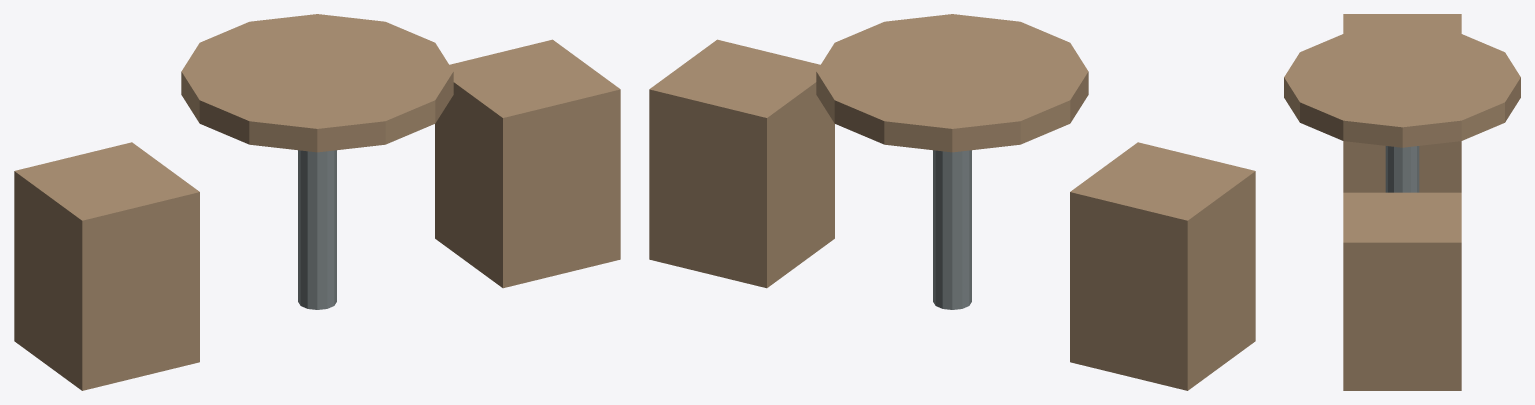
File: PRP_HOUSE_004_patio_table_set.glb
3 renders of one model, left to right at view 1: azimuth 30°, elevation 25°; view 2: azimuth 150°, elevation 25°; view 3: azimuth 270°, elevation 25°, orthographic. The views are drawn at different scales.
Visible parts, largest first — view 1: Part_73, Part_79, Part_74, Part_80, Part_76, Part_82, Part_01, Part_22, Part_04, Part_19, Part_07, Part_16 (+14 smaller); view 2: Part_72, Part_78, Part_74, Part_80, Part_76, Part_82, Part_13, Part_34, Part_16, Part_31, Part_01, Part_10 (+14 smaller); view 3: Part_81, Part_82, Part_75, Part_76, Part_10, Part_25, Part_07, Part_28, Part_04, Part_31, Part_13, Part_22 (+14 smaller).
Boxes of the visible parts, <box> form: Part_73: <box>82,192,199,390</box>; Part_79: <box>503,89,620,288</box>; Part_74: <box>14,171,82,390</box>; Part_80: <box>435,82,502,287</box>; Part_76: <box>15,142,199,220</box>; Part_82: <box>449,39,620,117</box>; Part_01: <box>319,43,452,71</box>; Part_22: <box>182,43,315,71</box>; Part_04: <box>318,71,453,99</box>; Part_19: <box>181,71,316,99</box>; Part_07: <box>318,71,434,120</box>; Part_16: <box>200,71,316,120</box>; Part_72: <box>1070,192,1187,390</box>; Part_78: <box>649,89,766,288</box>; Part_74: <box>1187,171,1255,390</box>; Part_80: <box>767,82,834,287</box>; Part_76: <box>1070,142,1254,220</box>; Part_82: <box>649,39,820,117</box>; Part_13: <box>954,43,1087,71</box>; Part_34: <box>817,43,950,71</box>; Part_16: <box>953,71,1088,99</box>; Part_31: <box>816,71,951,99</box>; Part_01: <box>835,22,951,71</box>; Part_10: <box>953,22,1069,71</box>; Part_81: <box>1343,242,1461,390</box>; Part_82: <box>1343,192,1461,242</box>; Part_75: <box>1343,141,1461,192</box>; Part_76: <box>1343,14,1461,33</box>; Part_10: <box>1284,52,1401,77</box>; Part_25: <box>1403,52,1520,77</box>; Part_07: <box>1284,77,1401,102</box>; Part_28: <box>1403,77,1520,102</box>; Part_04: <box>1300,77,1401,120</box>; Part_31: <box>1403,77,1504,120</box>; Part_13: <box>1300,34,1401,76</box>; Part_22: <box>1403,34,1504,76</box>.
Bounding box in the file's own units: 1.92 × 0.785 × 0.84.
